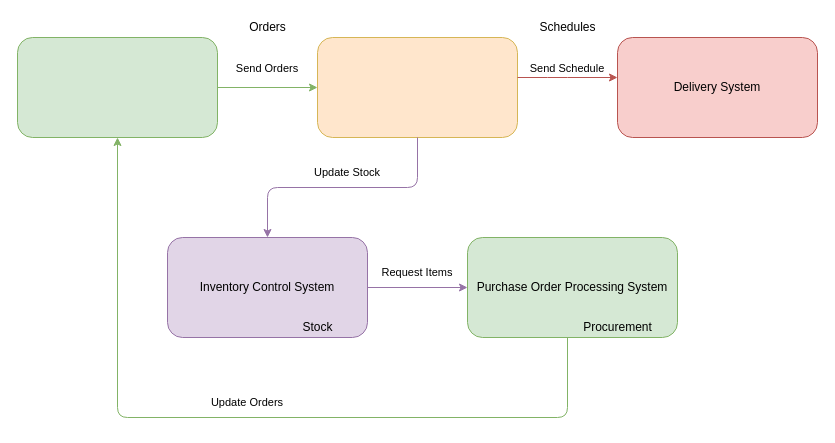
The diagram is 835 pixels wide and 443 high, and some of its shapes have lost their labels. Each missing label, with the centre of its shape:
"Production System" belongs at pixel 417 87.
"Sales Order Processing System" belongs at pixel 117 87.
